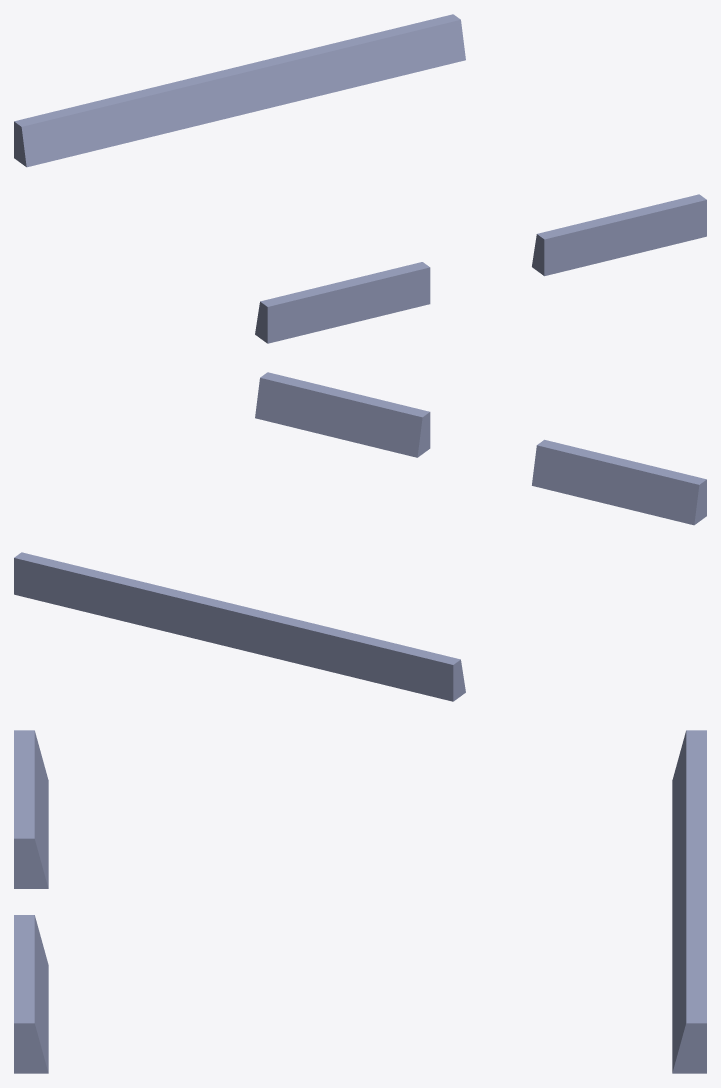
The model's file is road-driveway-single-barrier.glb.
The picture shows the model from 3 angles, top to bottom: view 1: azimuth 30°, elevation 25°; view 2: azimuth 150°, elevation 25°; view 3: azimuth 270°, elevation 25°; orthographic projection. The views are drawn at different scales.
Visible parts, largest first — view 1: road-driveway-single-barrier; view 2: road-driveway-single-barrier; view 3: road-driveway-single-barrier.
Part boxes in pixels (<box>): road-driveway-single-barrier: <box>14,14,706,343</box>; road-driveway-single-barrier: <box>14,372,706,701</box>; road-driveway-single-barrier: <box>14,730,706,1073</box>.
Size of the model in its own units: 1 by 0.08 by 1.
